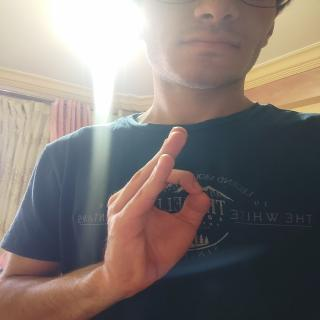Space: (100, 119, 215, 293)
